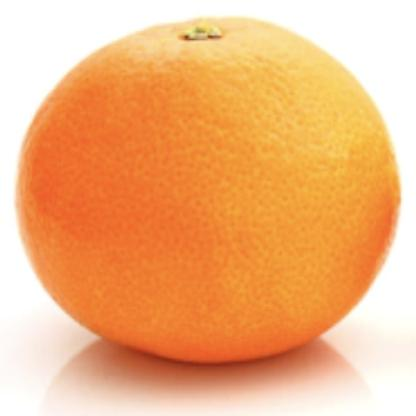fresh: (21, 18, 397, 352)
